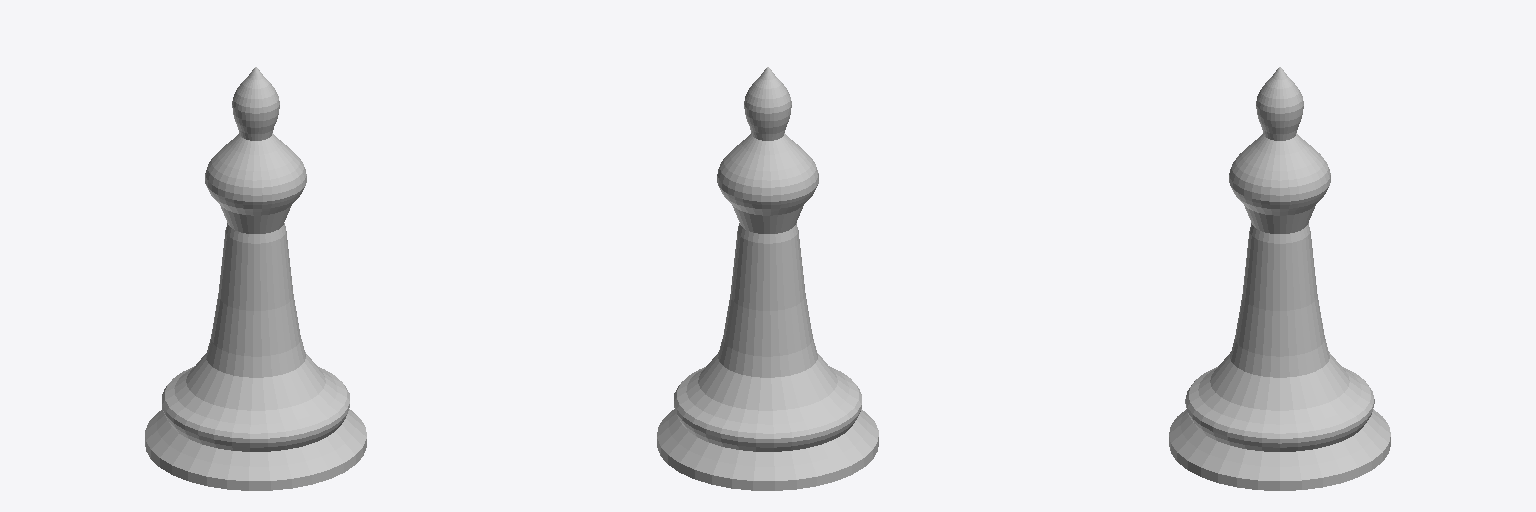
File: bishop.obj
3 renders of one model, left to right at view 1: azimuth 30°, elevation 25°; view 2: azimuth 150°, elevation 25°; view 3: azimuth 270°, elevation 25°, orthographic.
Parts seen in each view (by area): view 1: Cylinder; view 2: Cylinder; view 3: Cylinder.
Boxes of the visible parts, x1=… form: Cylinder: x1=145, y1=67, x2=366, y2=490; Cylinder: x1=657, y1=67, x2=878, y2=490; Cylinder: x1=1169, y1=67, x2=1390, y2=490.
Size of the model in its own units: 0.9361 by 1.75 by 0.9361.